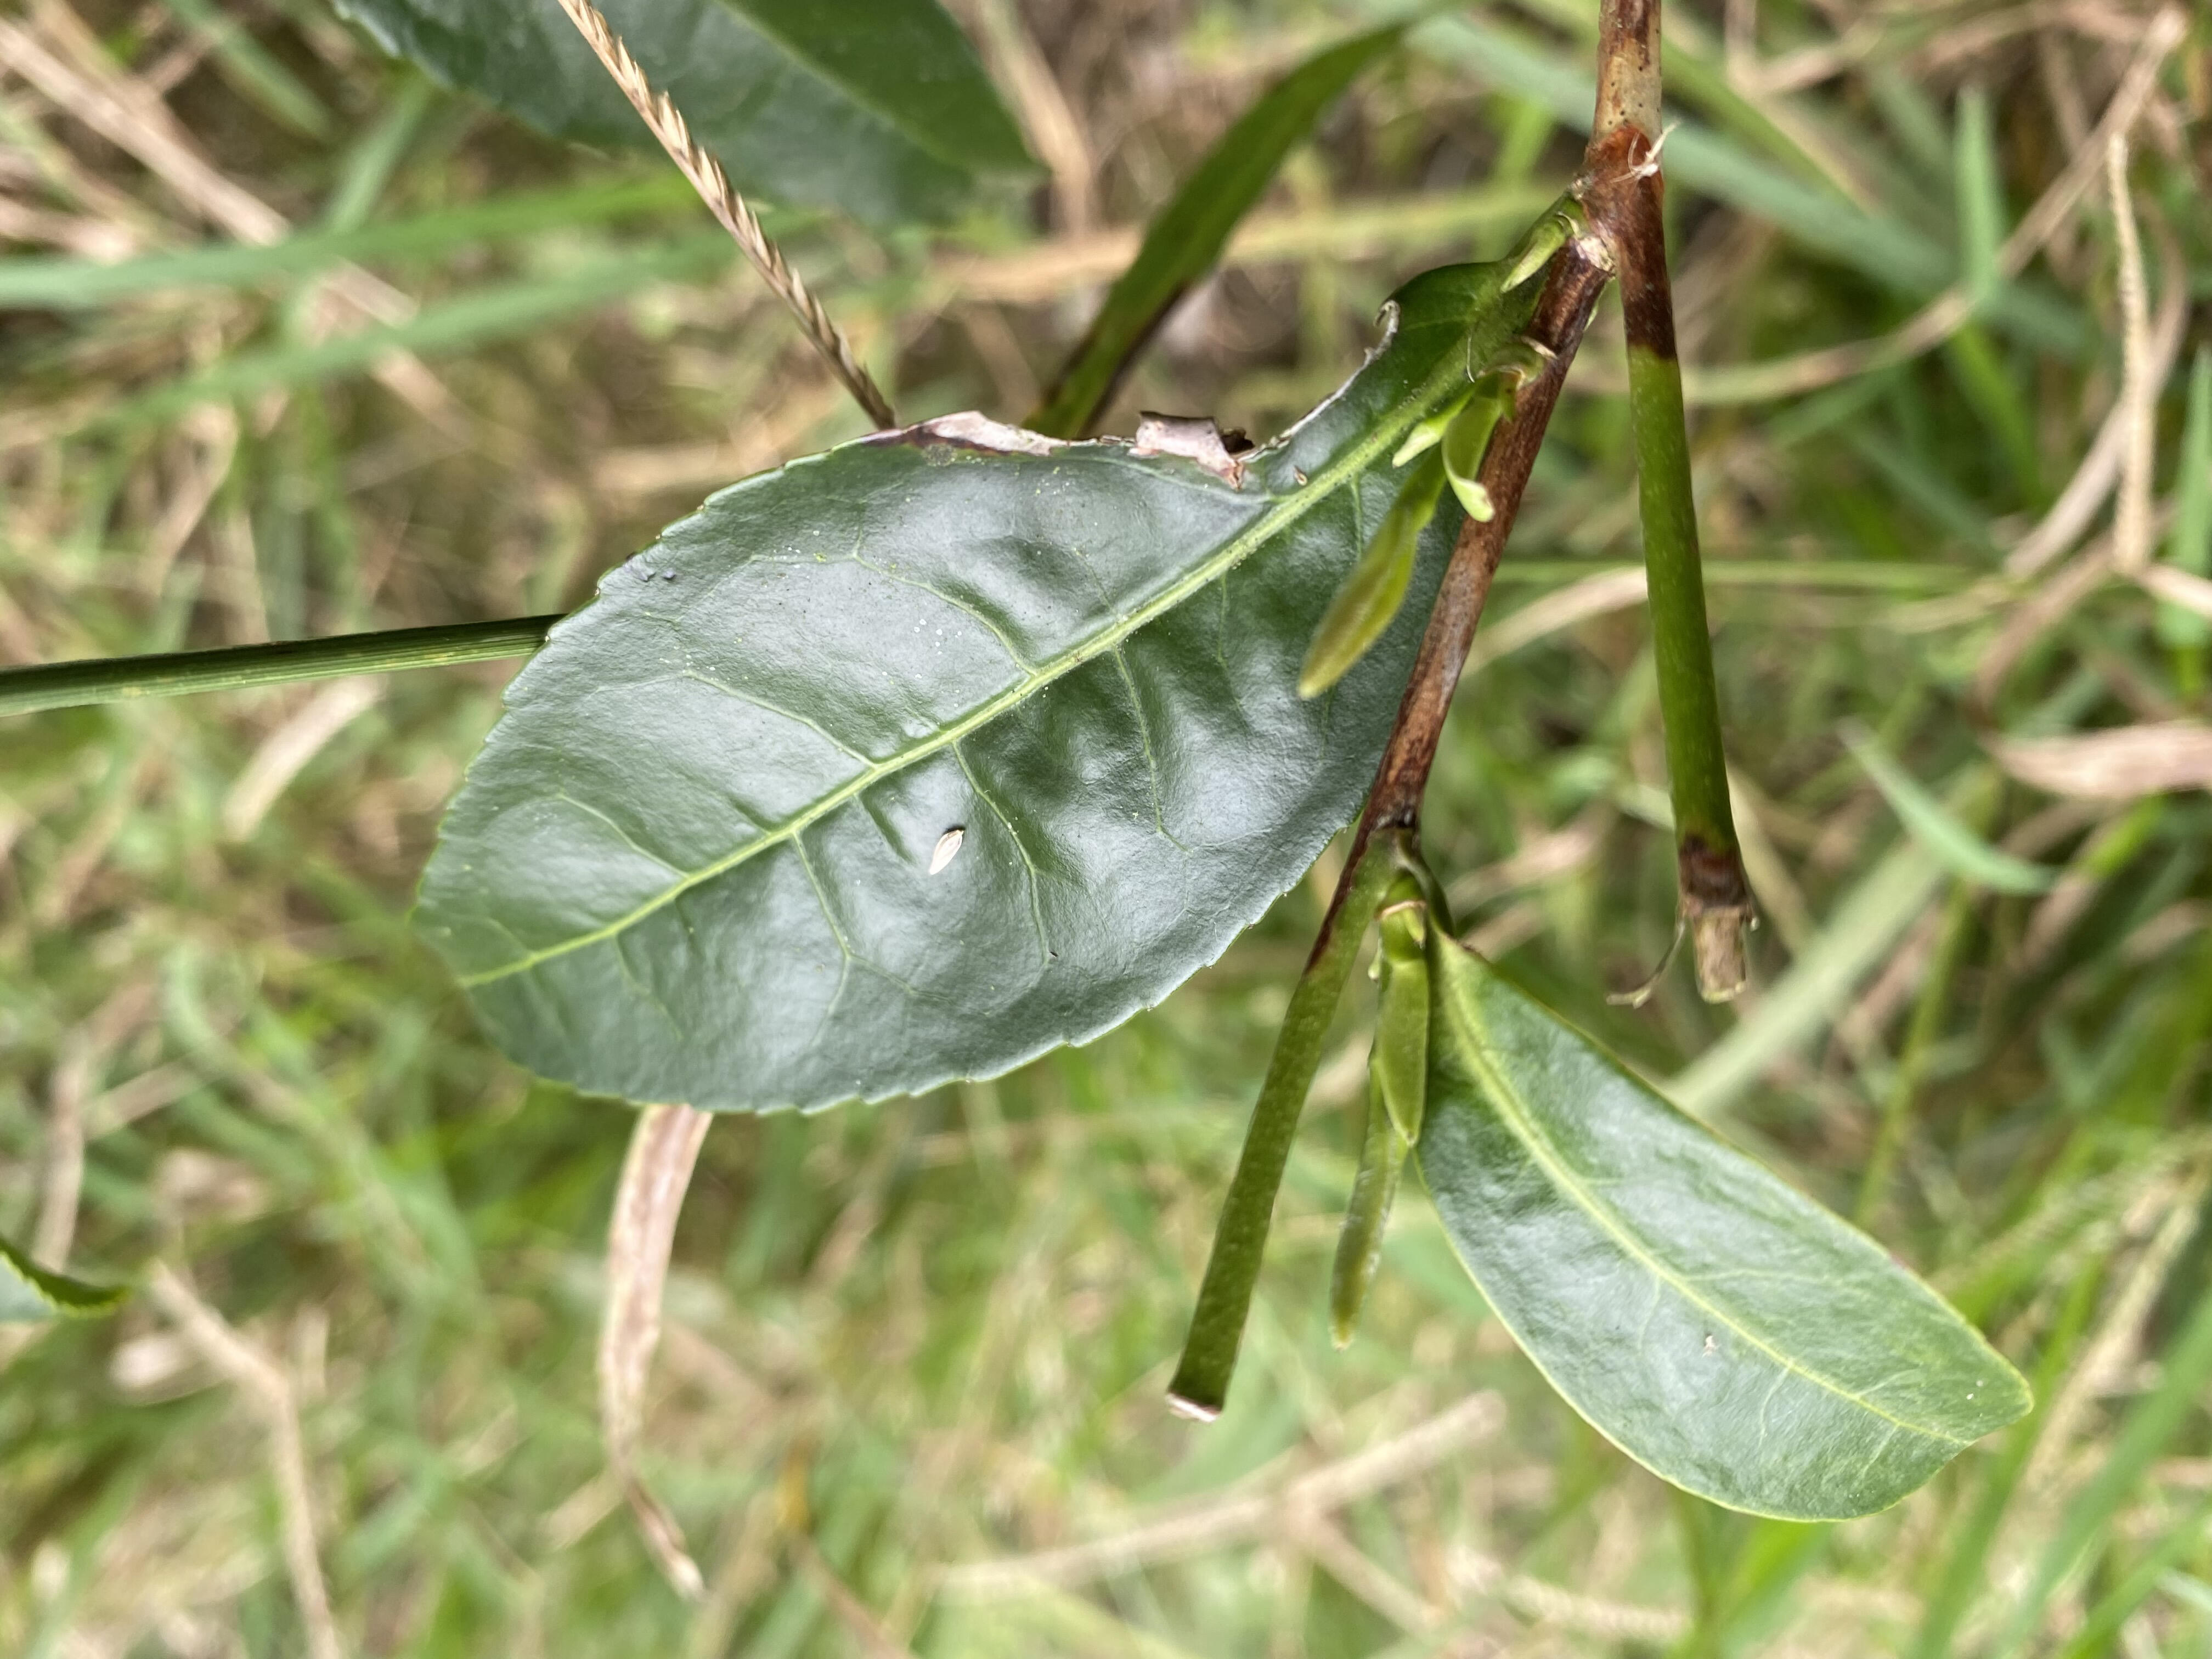chihuo_low: (411, 256, 1531, 1119)
healthy: (1418, 939, 2031, 1520)
